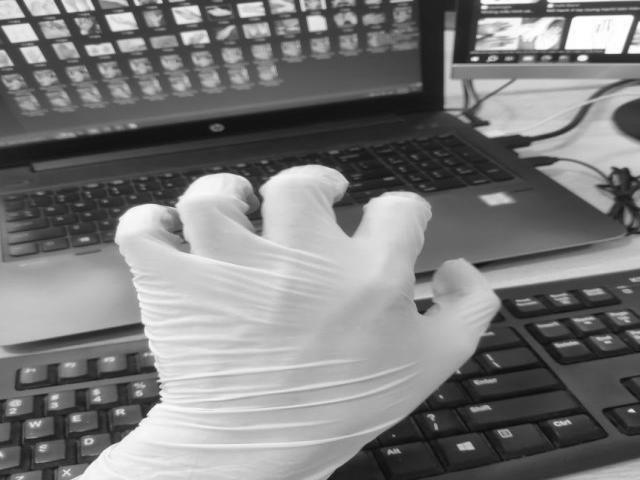gloved: (111, 160, 498, 480)
